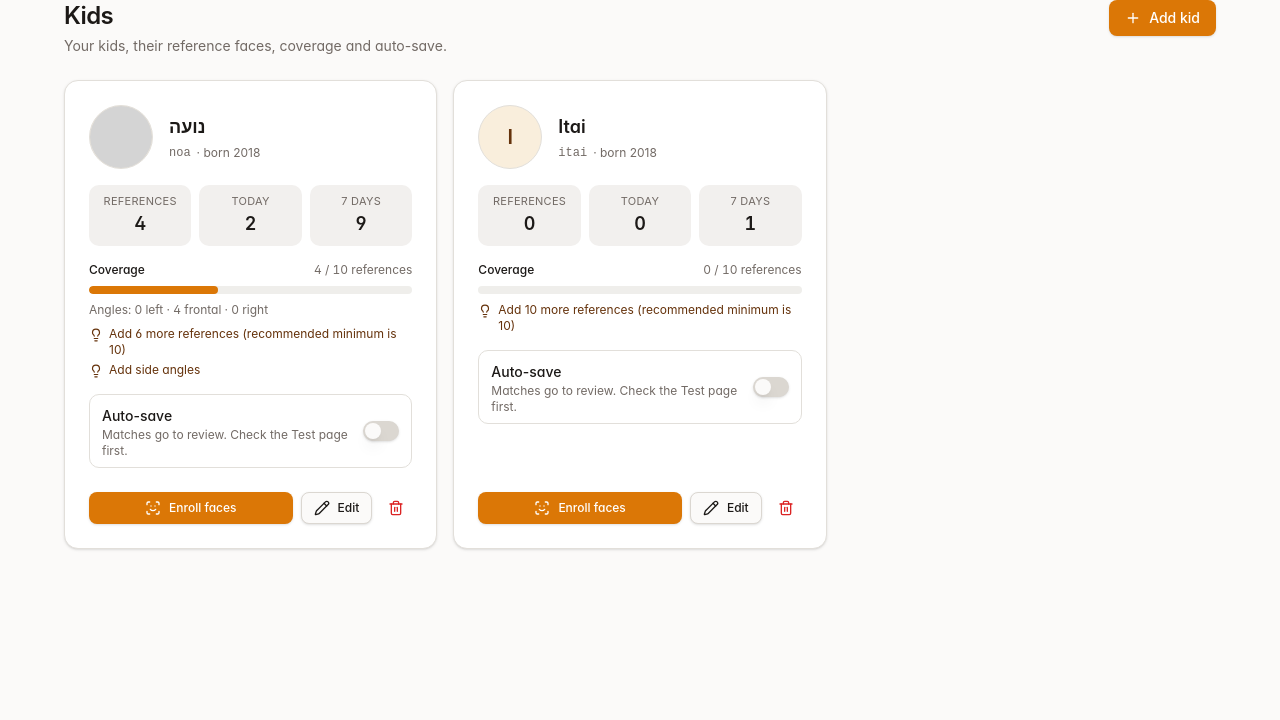
it: KidsPage › validates the name before sending
Expected: the element with test id "kid-card-1" is shown, x1=64 y1=80 x2=437 y2=548
Click the button "Add kid".
click(1163, 18)  # box x1=1109 y1=0 x2=1216 y2=36
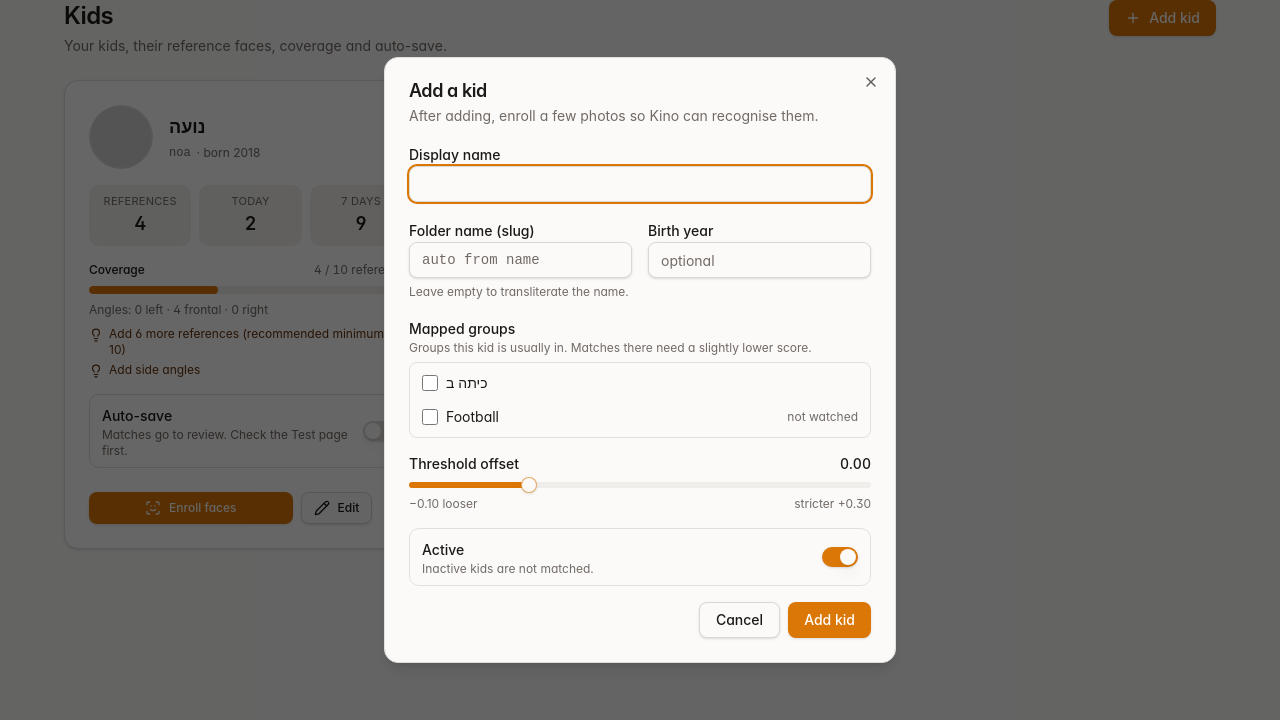
Click the button "Add kid".
click(830, 620)  # box x1=788 y1=602 x2=871 y2=638
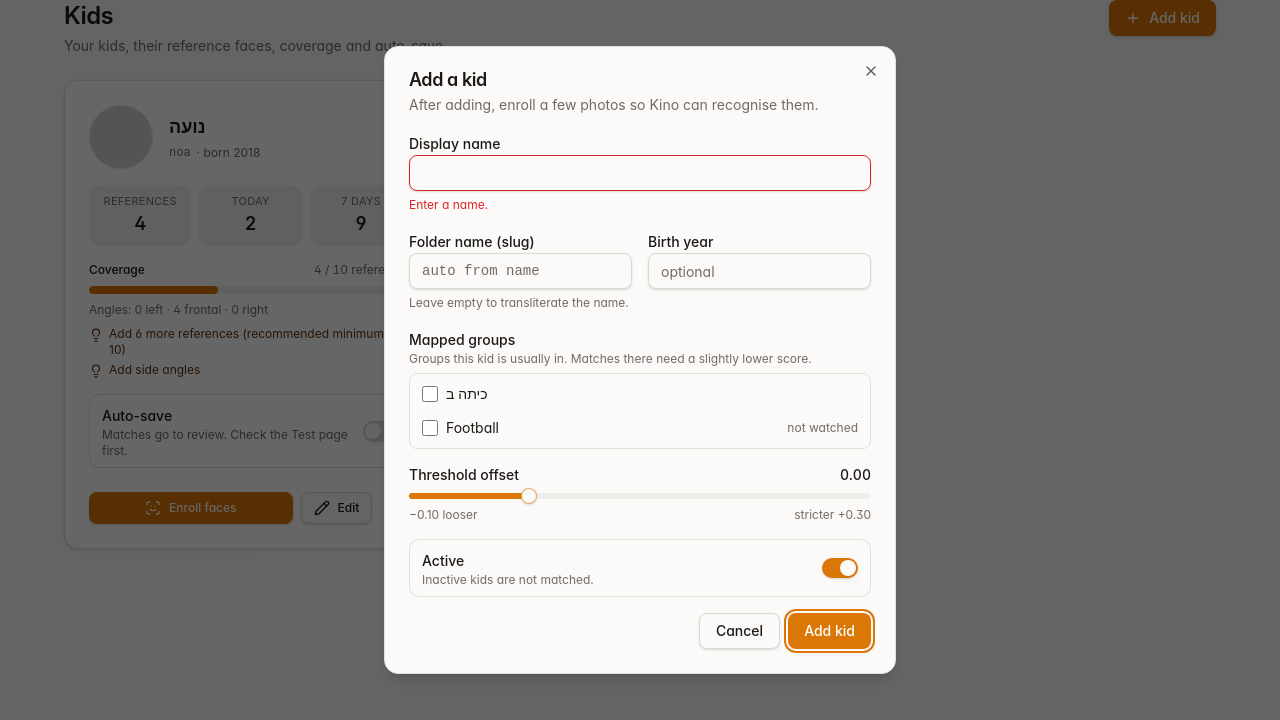
Expected: the text "Enter a name." is shown, x1=409 y1=197 x2=488 y2=212
